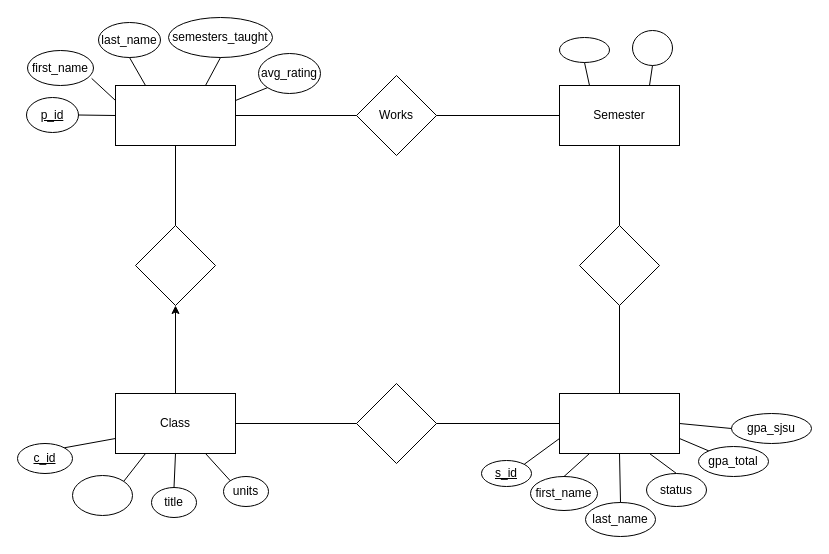
This 829x554 diagram has some shape labels left out. The shapes that lost their labels are listed below. From the top down, each one's box as (x1, y1, x2, y2) in pixels, then its label:
(558, 36, 610, 62): term
(632, 30, 672, 66): year
(114, 84, 236, 146): Professor
(134, 224, 216, 306): Teaches
(578, 224, 660, 306): Enrolled
(356, 382, 436, 464): Taking
(558, 392, 680, 454): Student
(72, 474, 132, 516): section
